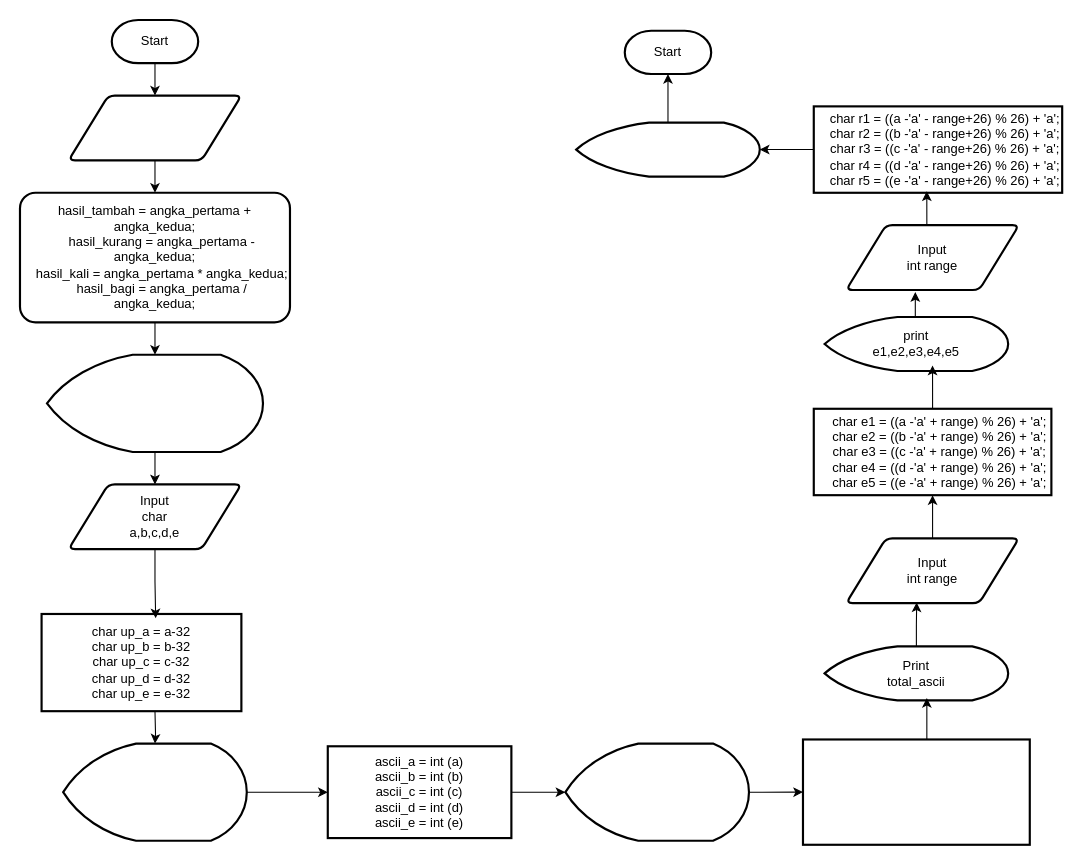
Some shapes in this 1081 by 864 pixel diagram are drawn without their labels. The centre of each missing label's shape, as x and y in pixels:
Input float angka_pertama, angka_kedua: the point at 154,127
Print ascii_a, ascii _b, ascii _c, ascii _d, ascii _e: the point at 657,791
Print hasil_tambah, hasil_kurang, hasil_kali, hasil_bagi: the point at 154,403
print r1,r2,r3,r4,r5: the point at 667,149
Print up_a, up_b, up_c, up_d, up_e: the point at 154,791
total_ascii=ascii_a+ ascii _b+ ascii _c + ascii _d+ ascii _e: the point at 915,791
